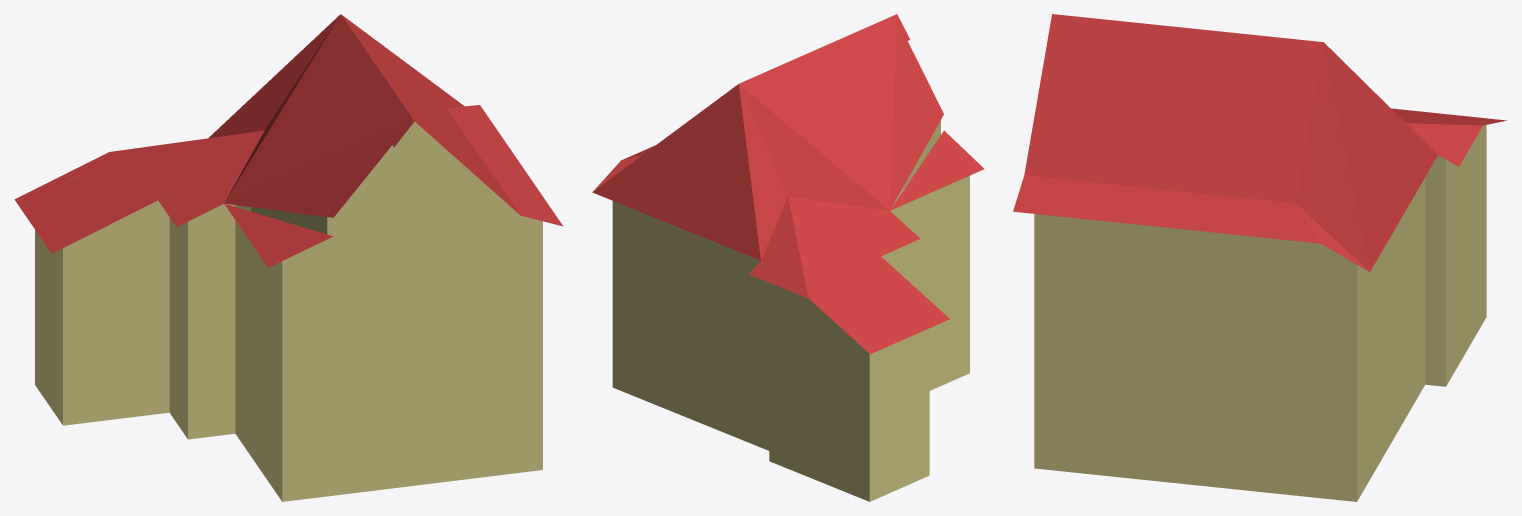
3 views of the same model, side by side, from view 1: azimuth 30°, elevation 25°; view 2: azimuth 150°, elevation 25°; view 3: azimuth 270°, elevation 25° (orthographic). The views are drawn at different scales.
Size of the model in its own units: 14.33 by 14.02 by 12.27.
